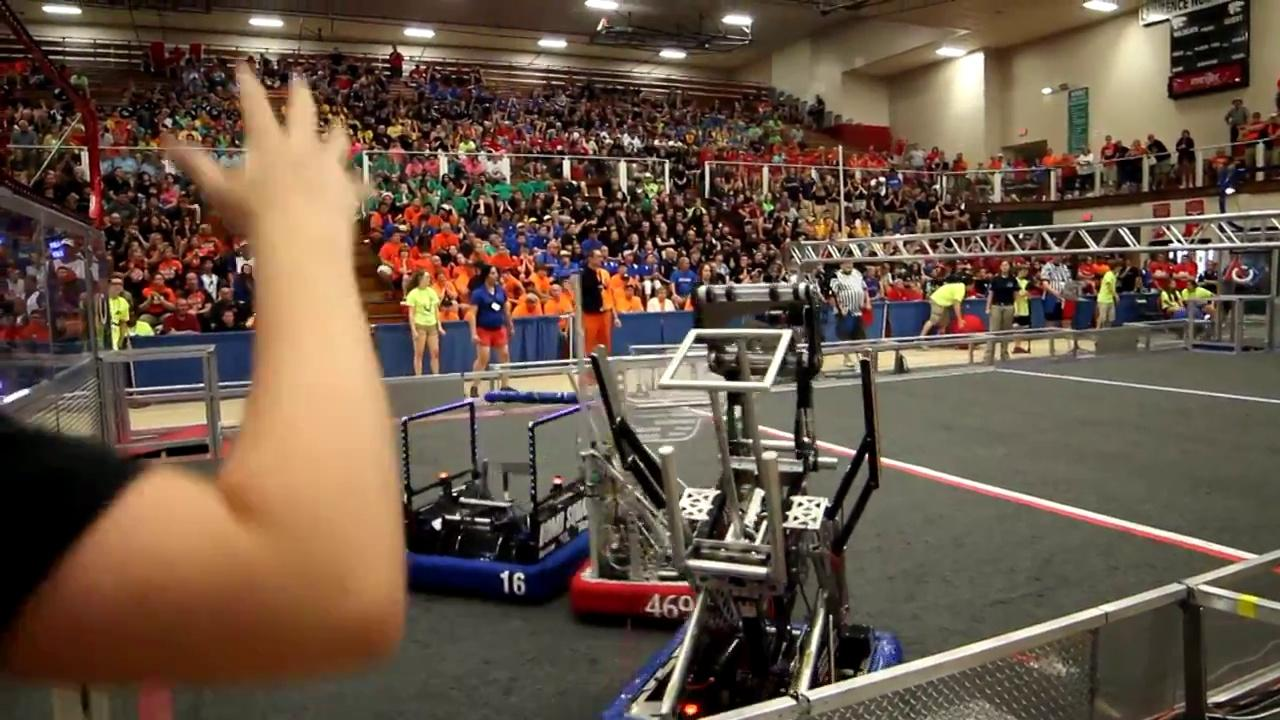robot: (599, 277, 900, 720), (561, 268, 817, 620), (393, 380, 610, 606)
